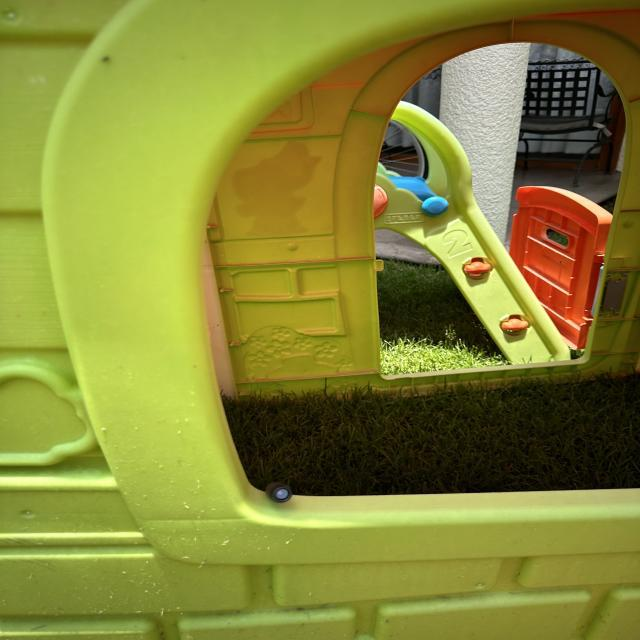hidden camera: (271, 486, 291, 503)
